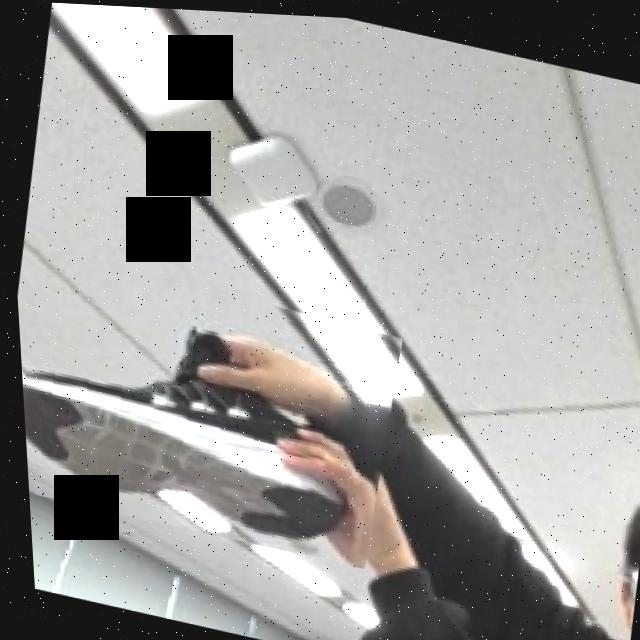shoe: (11, 241, 411, 570)
